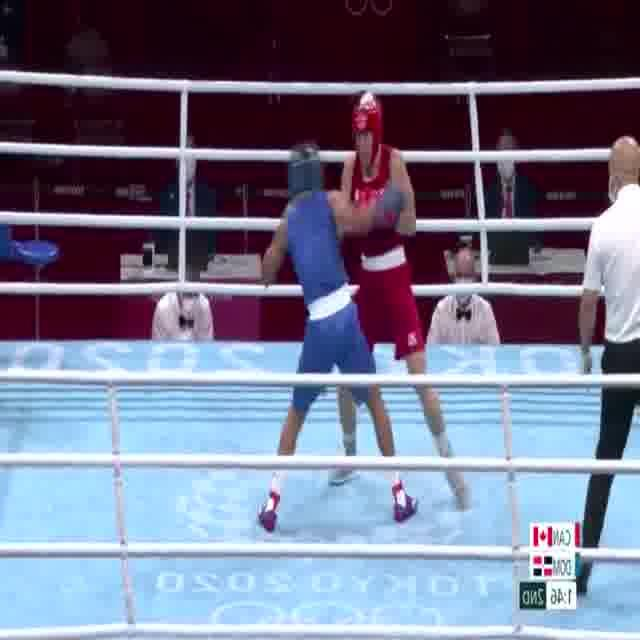blue-player: (254, 140, 422, 532)
red-player: (328, 87, 481, 510)
referee: (561, 132, 640, 602)
